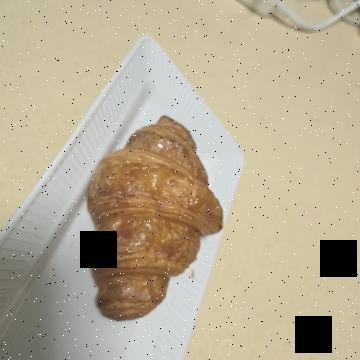croissant: (102, 130, 331, 299)
